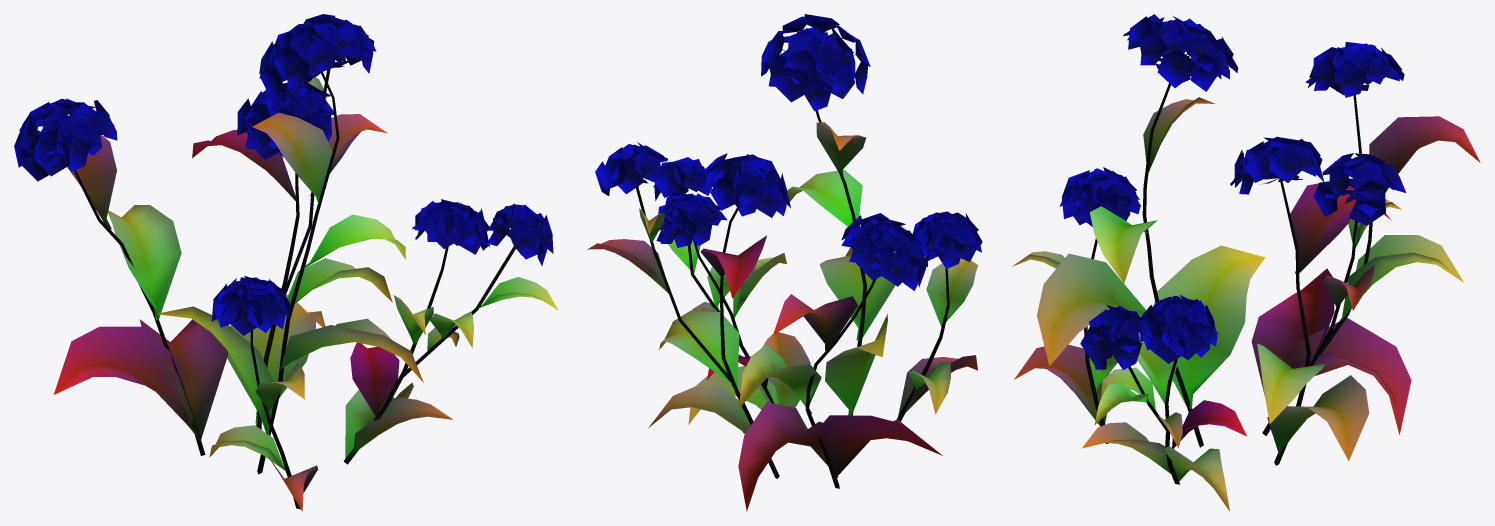
File: SM_WildCarrot_S_01.fbx
The picture shows the model from 3 angles, left to right: view 1: azimuth 30°, elevation 25°; view 2: azimuth 150°, elevation 25°; view 3: azimuth 270°, elevation 25°; orthographic projection. The views are drawn at different scales.
Visible parts, largest first — view 1: SM_WildCarrot_S_01_LOD0; view 2: SM_WildCarrot_S_01_LOD0; view 3: SM_WildCarrot_S_01_LOD0.
Boxes of the visible parts, left/top/right/bottom form: SM_WildCarrot_S_01_LOD0: left=14, top=14, right=558, bottom=511; SM_WildCarrot_S_01_LOD0: left=587, top=14, right=982, bottom=511; SM_WildCarrot_S_01_LOD0: left=1012, top=14, right=1480, bottom=511.
Bounding box in the file's own units: 68.74 × 68.22 × 72.69.
